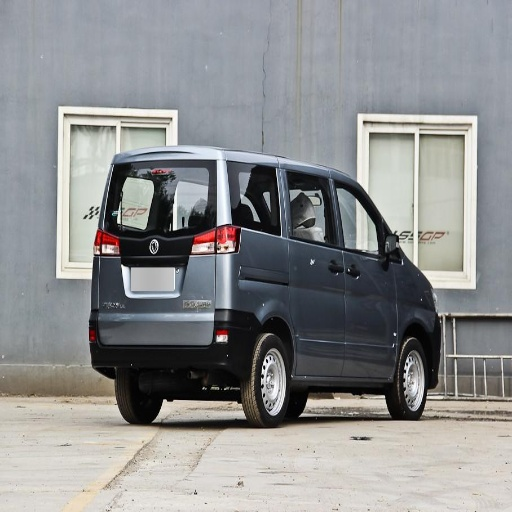back_bumper: (87, 263, 257, 371)
back_right_door: (281, 165, 341, 375)
trunk: (100, 224, 216, 339)
